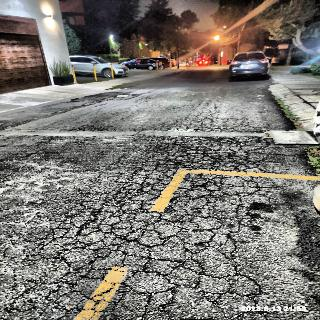alligator-crack: (138, 118, 262, 317), (10, 194, 137, 320)
